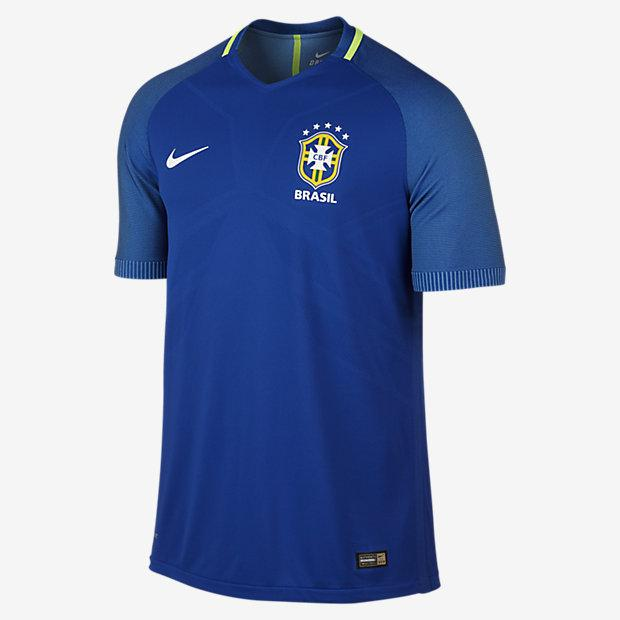teeshirt: (90, 5, 535, 612)
